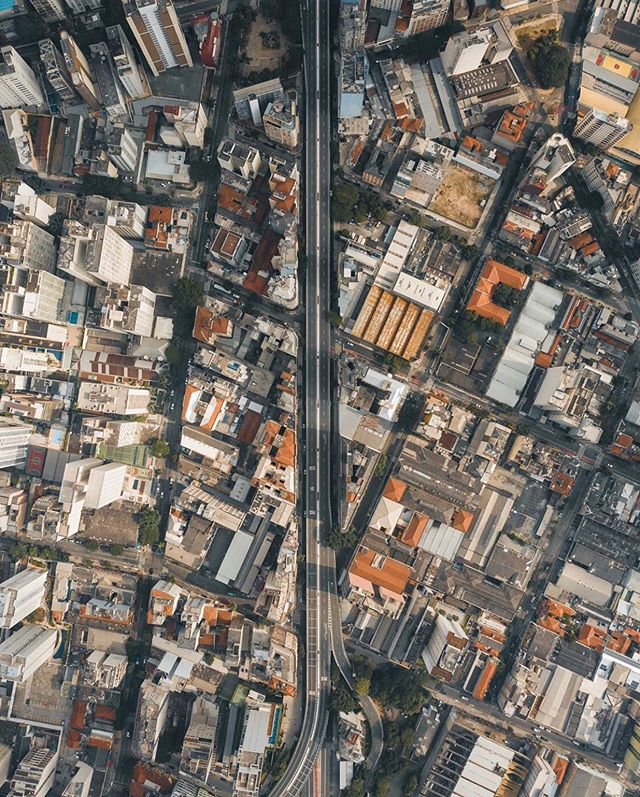building: (54, 220, 135, 292), (45, 454, 126, 526), (1, 624, 64, 687), (1, 562, 49, 622)
street: (288, 1, 350, 797)
